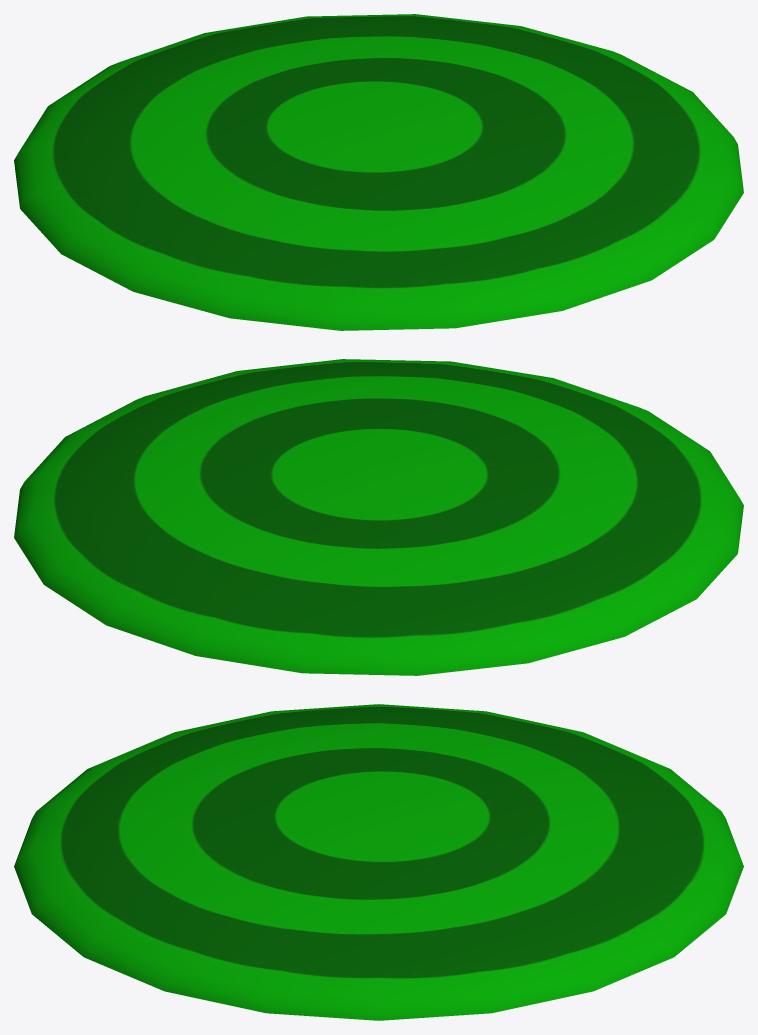
The model's file is damage_area_poison.fbx.
3 renders of one model, top to bottom at view 1: azimuth 30°, elevation 25°; view 2: azimuth 150°, elevation 25°; view 3: azimuth 270°, elevation 25°, orthographic.
Visible parts, largest first — view 1: pSphere1; view 2: pSphere1; view 3: pSphere1.
Part boxes in pixels (x1=…): pSphere1: x1=14, y1=14, x2=743, y2=330; pSphere1: x1=14, y1=359, x2=743, y2=675; pSphere1: x1=14, y1=704, x2=743, y2=1020.
Bounding box in the file's own units: 300 × 23.12 × 300.
